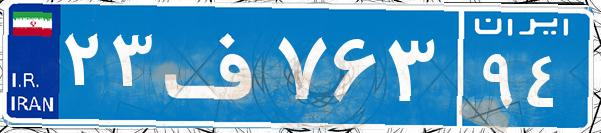2: (57, 26, 110, 107)
3: (385, 28, 445, 110), (110, 28, 158, 105)
4: (525, 38, 570, 115)
6: (330, 28, 385, 110)
7: (273, 28, 330, 110)
9: (475, 38, 525, 113)
ف: (158, 15, 273, 115)
